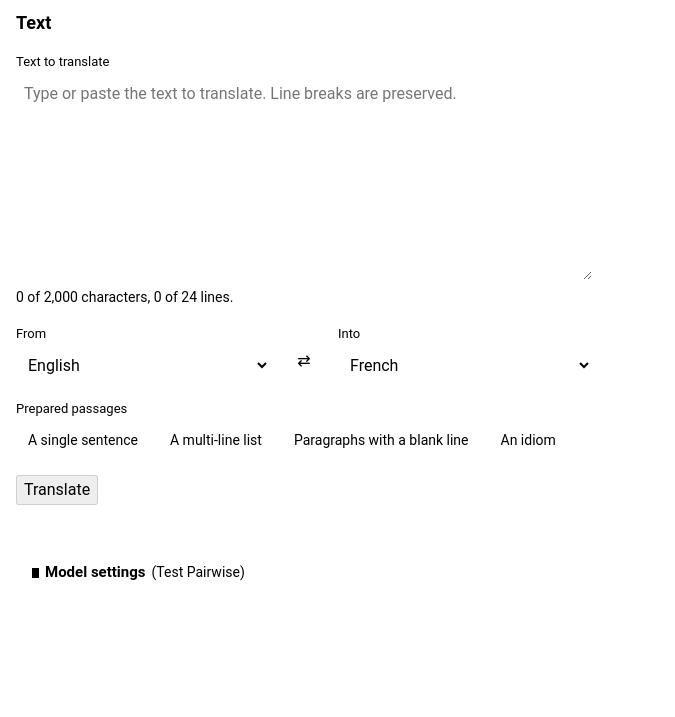
it: the composer › explains when both languages are the same
Replace the text in the text box with id "translate-source-text" with "something" at (304, 178), box [16,76,592,280]
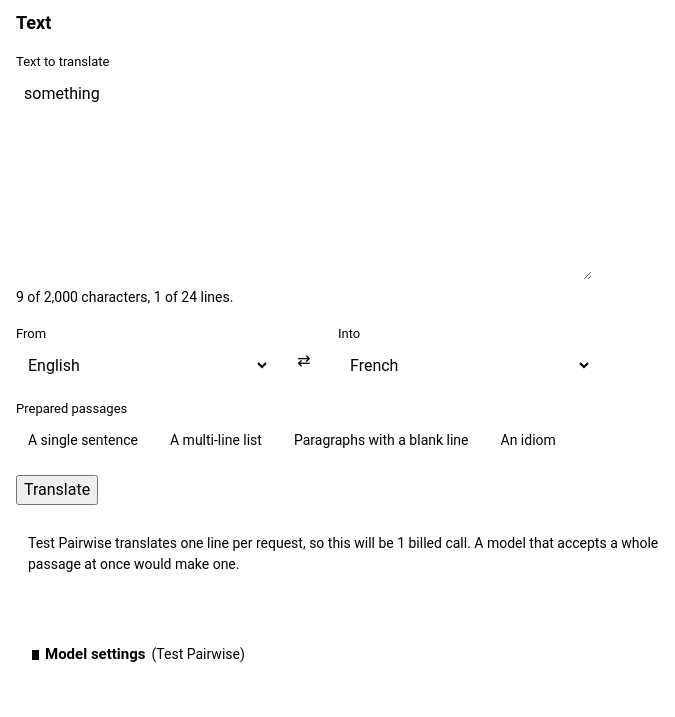
Select "English" in the dropdown with id "translate-target-language" at (465, 365), box [338,347,592,383]
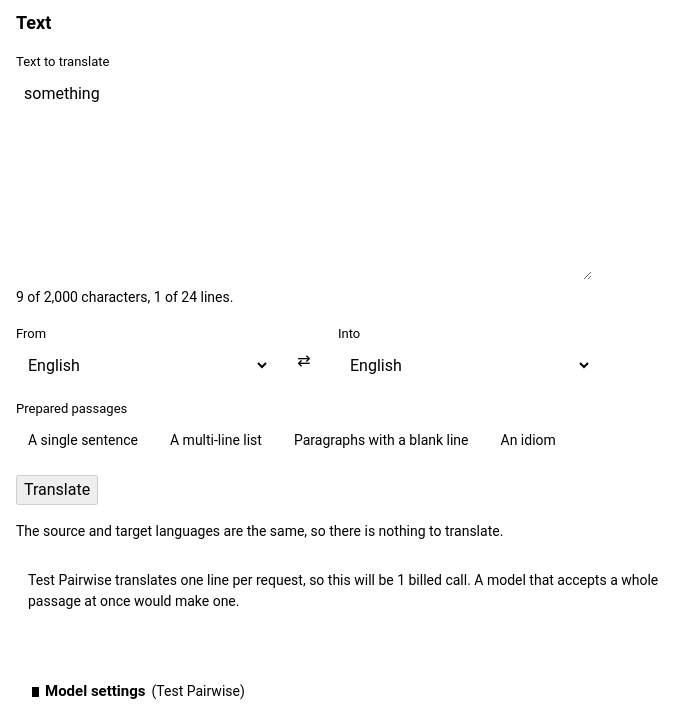
Now the text "nothing to translate" is shown, box [16,522,503,538]
